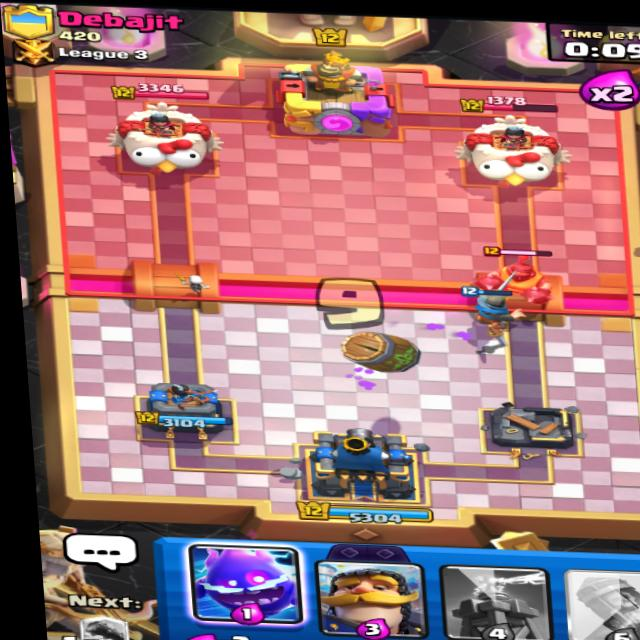mega-knight: (466, 237, 562, 320)
